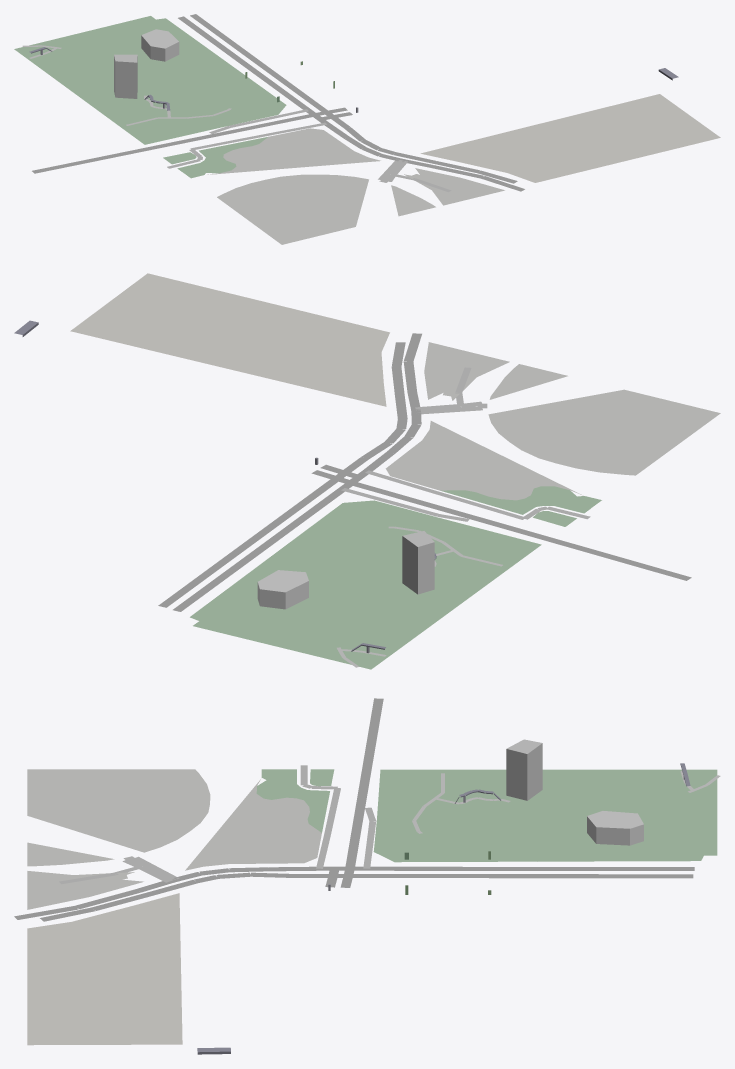
3 views of the same model, one above another, from view 1: azimuth 30°, elevation 25°; view 2: azimuth 150°, elevation 25°; view 3: azimuth 270°, elevation 25° (orthographic). The views are drawn at different scales.
Bounding box in the file's own units: 620 × 38.27 × 512.
